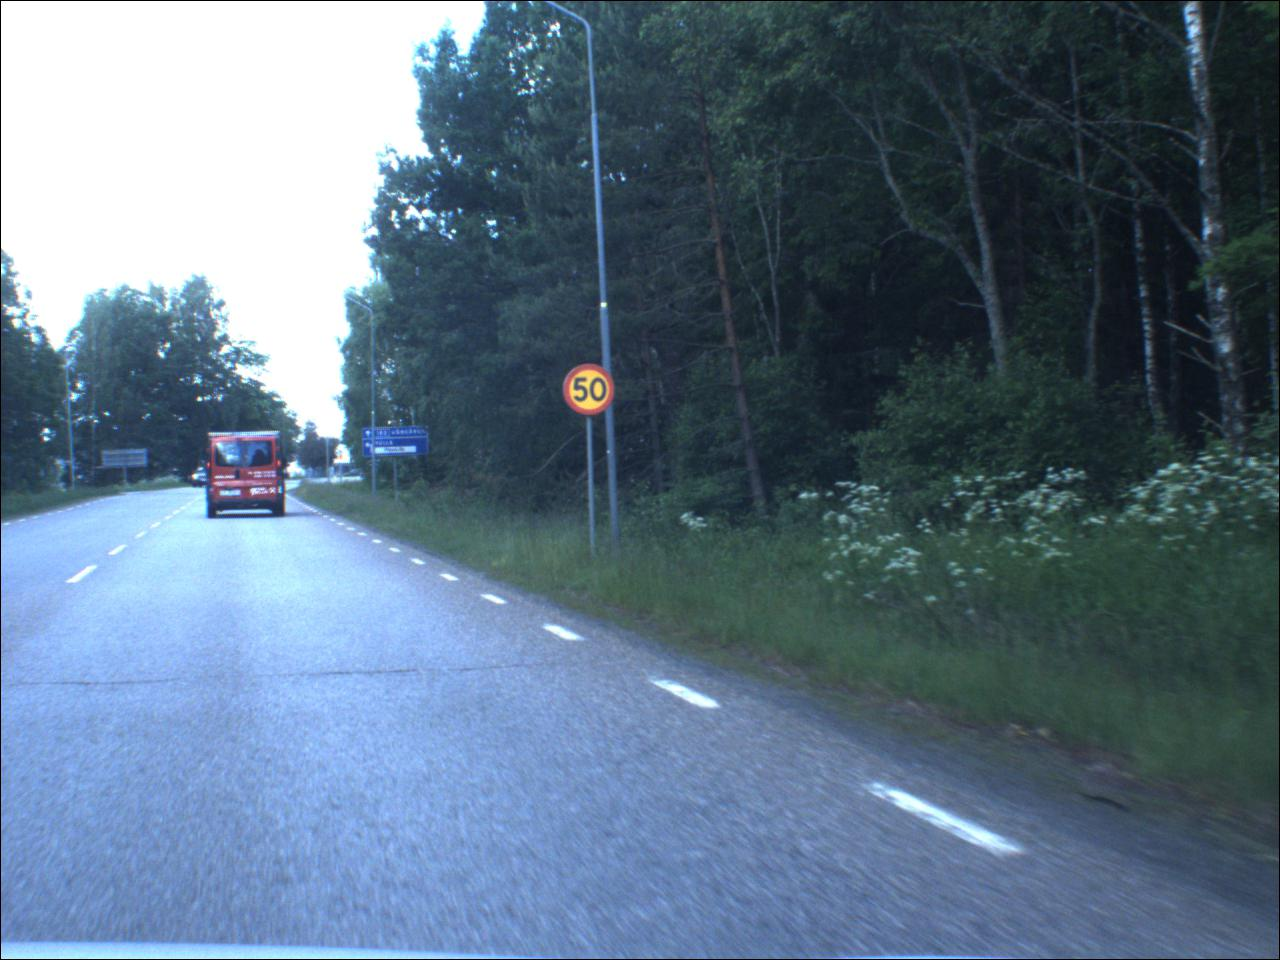50_SIGN: (565, 364, 618, 419)
